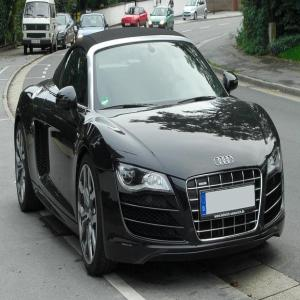Vehicle-registration-plate: (199, 183, 257, 219)
